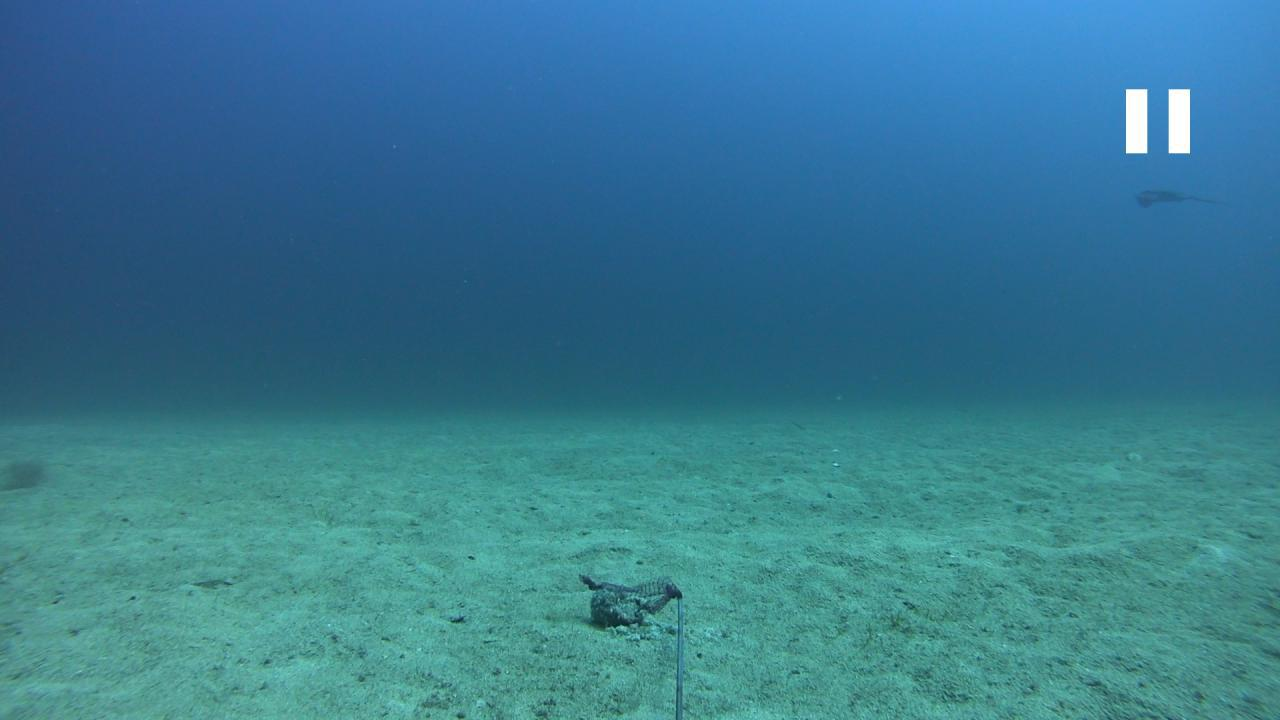dasyatis: (1133, 188, 1215, 210)
